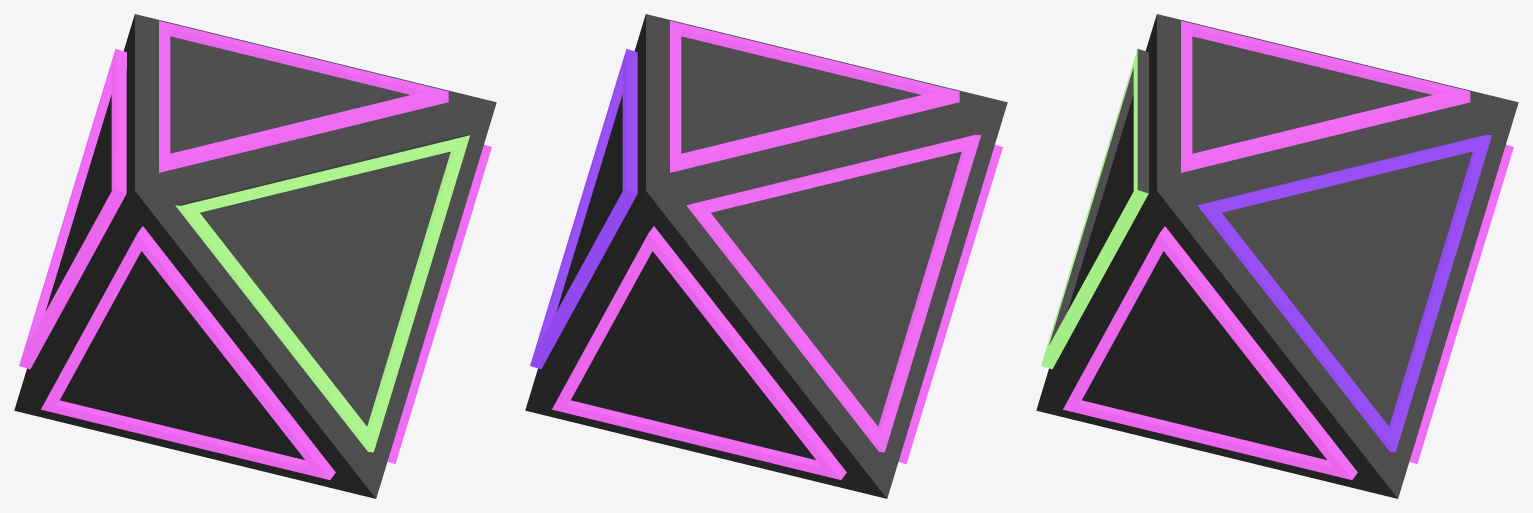
Rendered from octahedron.glb.
3 renders of one model, left to right at view 1: azimuth 30°, elevation 25°; view 2: azimuth 150°, elevation 25°; view 3: azimuth 270°, elevation 25°, orthographic.
Visible parts, largest first — view 1: Octahedron; view 2: Octahedron; view 3: Octahedron.
Boxes of the visible parts, x1,y1,x2,y2 form: Octahedron: (14, 14, 496, 498); Octahedron: (525, 14, 1007, 498); Octahedron: (1036, 14, 1518, 498).
Size of the model in its own units: 1 by 0.8608 by 1.15.
